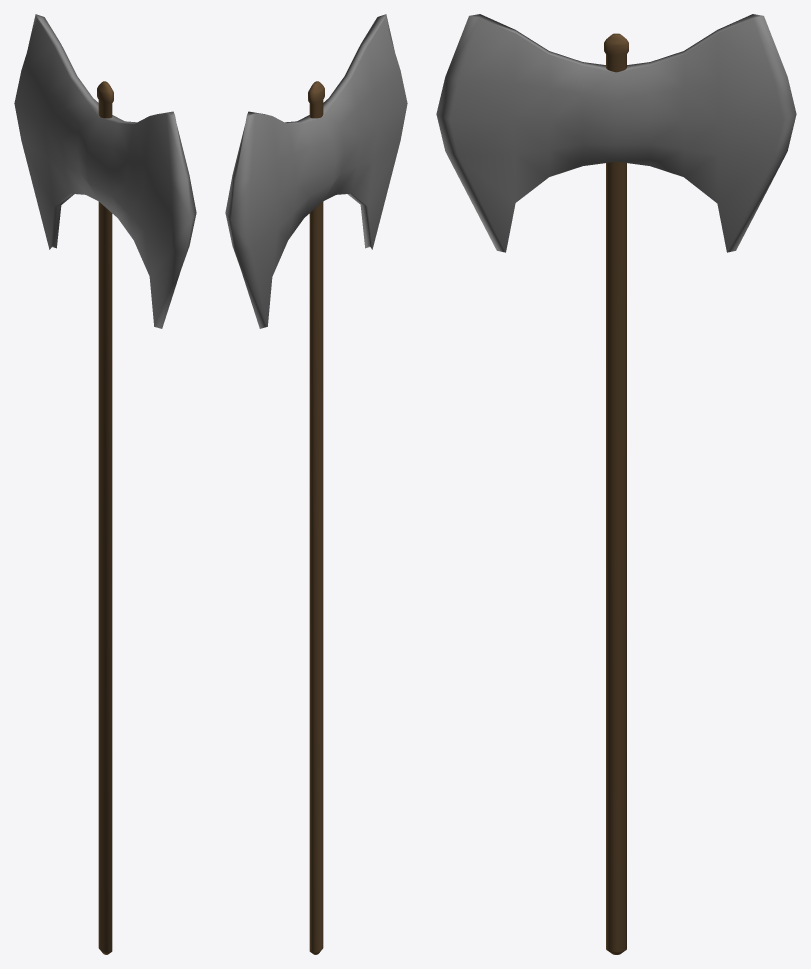
File: MOD_Axe.fbx
3 views of the same model, side by side, from view 1: azimuth 30°, elevation 25°; view 2: azimuth 150°, elevation 25°; view 3: azimuth 270°, elevation 25° (orthographic). The views are drawn at different scales.
Visible parts, largest first — view 1: AxerBody; view 2: AxerBody; view 3: AxerBody.
Boxes of the visible parts, x1,y1,x2,y2 form: AxerBody: [14, 14, 196, 954]; AxerBody: [225, 14, 407, 954]; AxerBody: [436, 14, 796, 954].
Size of the model in its own units: 0.4238 by 9.23 by 3.21.
